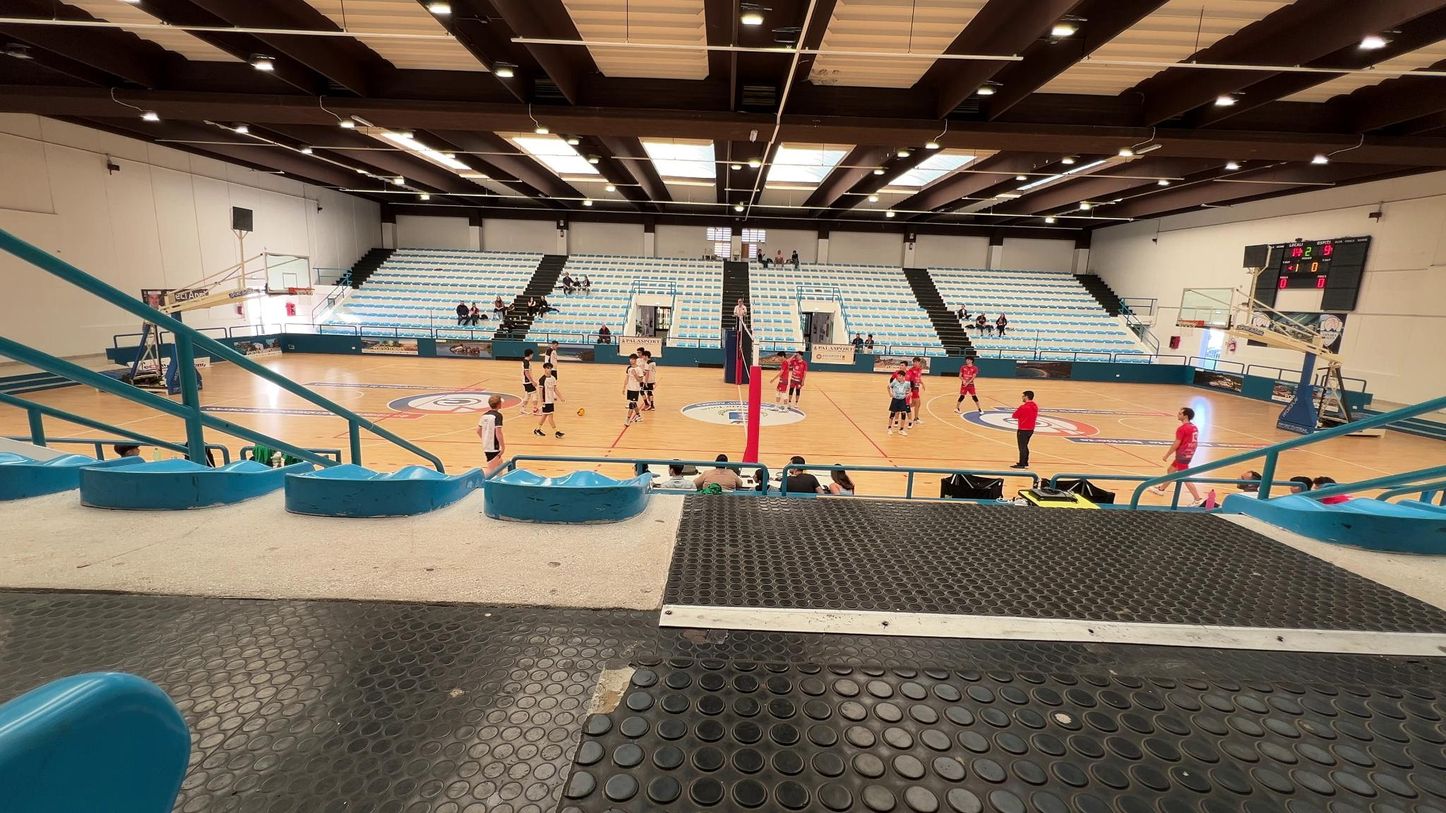volleyball court: (330, 374, 1169, 461)
